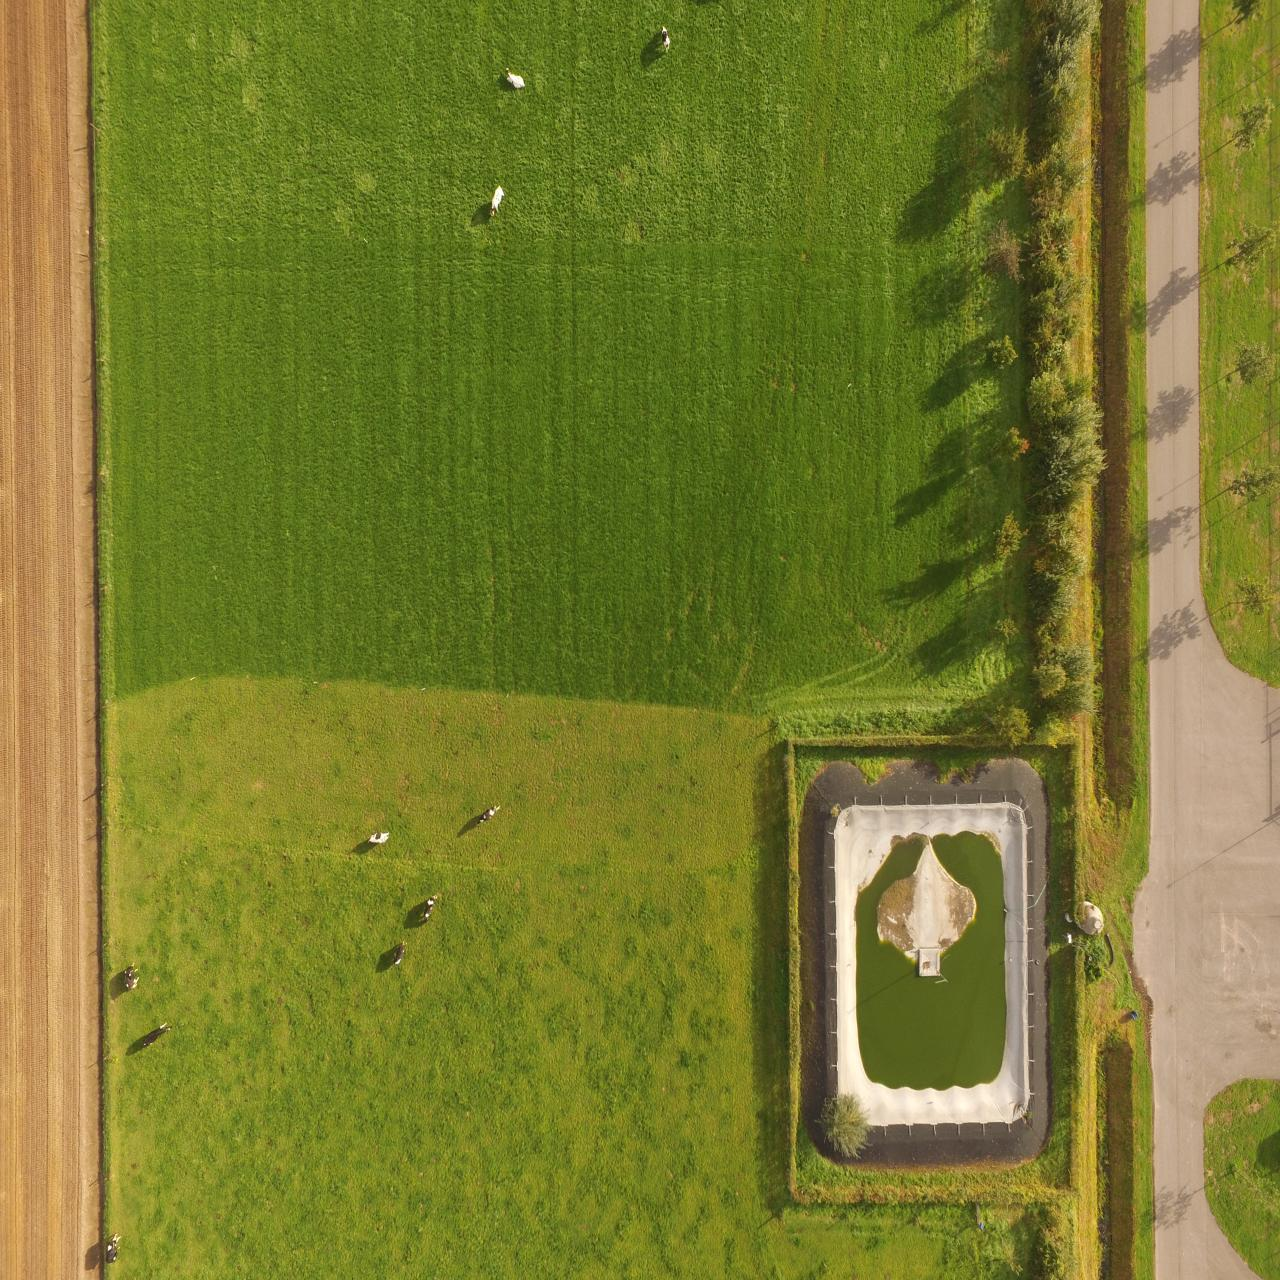cow: (115, 956, 148, 994), (384, 938, 416, 975), (363, 821, 394, 853), (485, 179, 510, 219), (499, 64, 527, 94), (105, 1232, 127, 1268), (482, 798, 504, 832), (417, 888, 437, 926), (655, 20, 675, 53), (155, 1021, 178, 1042)
